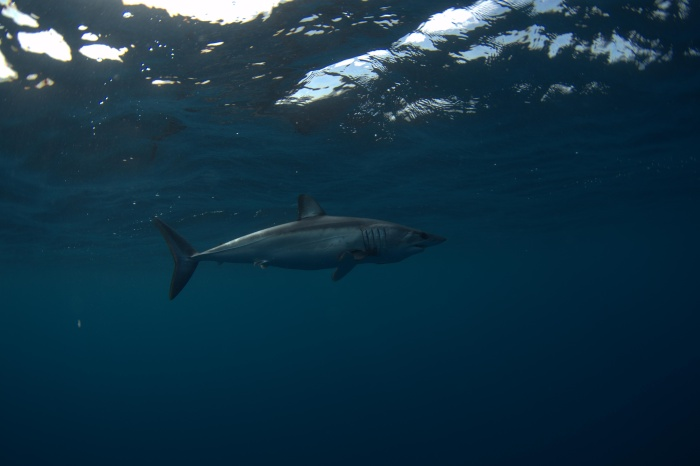Mako: (134, 184, 457, 313)
